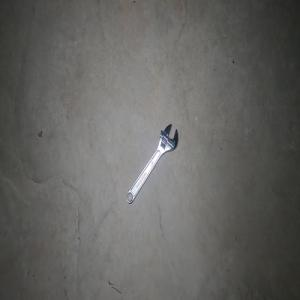Wrench: (126, 123, 178, 203)
